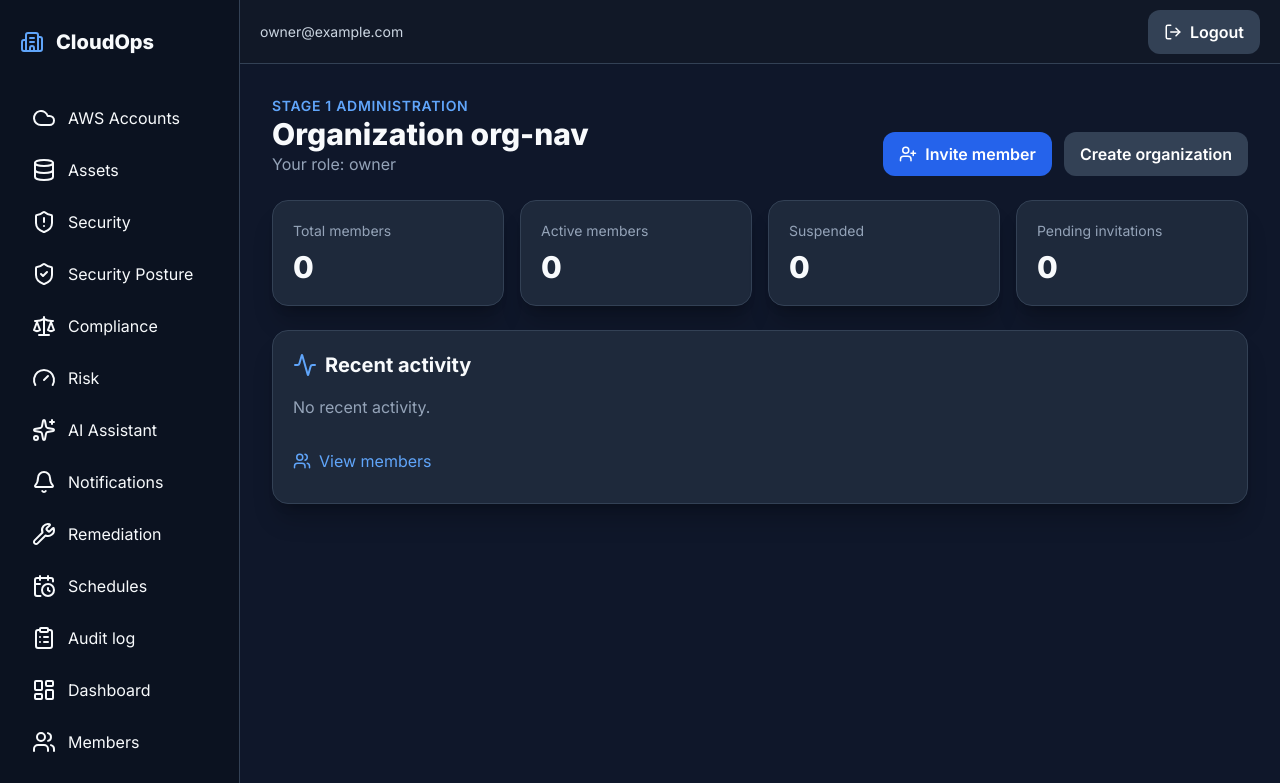
Test case: SecurityDashboardPage › navigates to the security dashboard from the primary navigation
Expected: the heading "Organization org-nav" is shown, [272,116,589,152]
Click the link "Security Posture": (113, 274) [32,262,193,286]
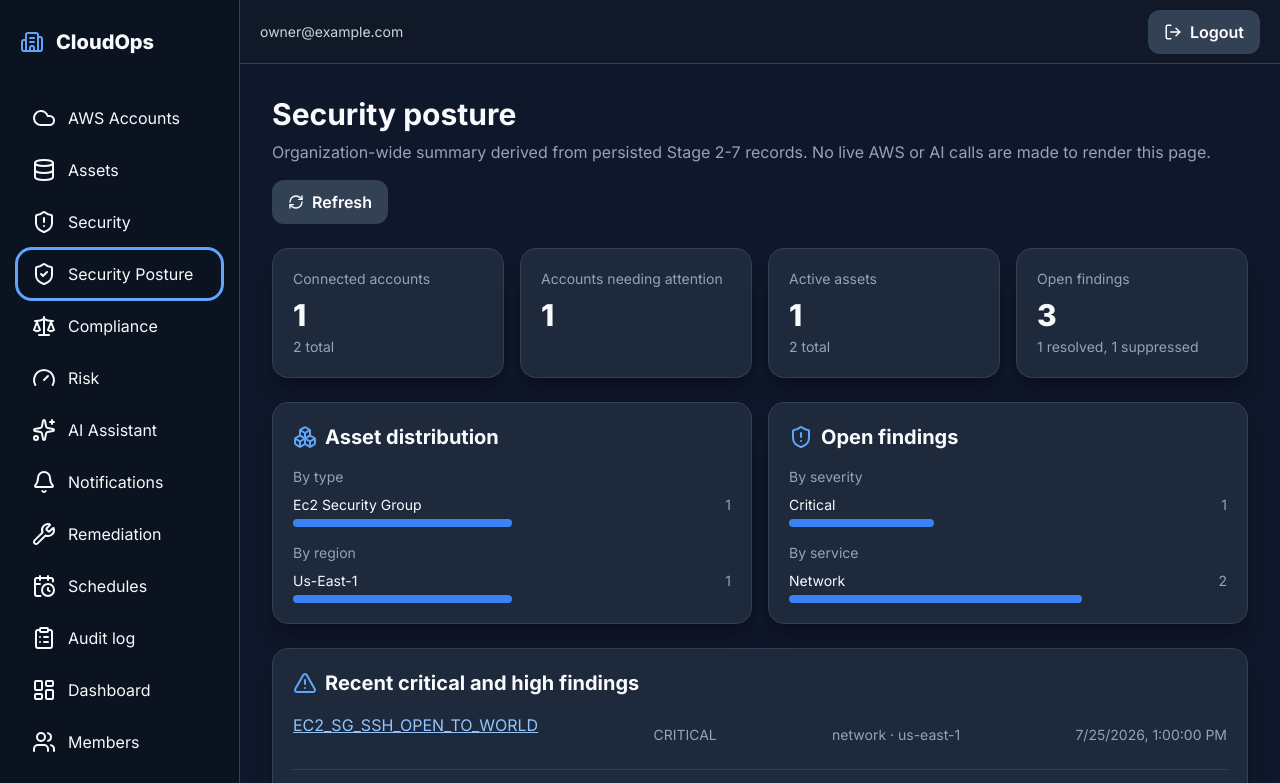
Expected: the heading "Security posture" is shown, [272,96,516,132]
